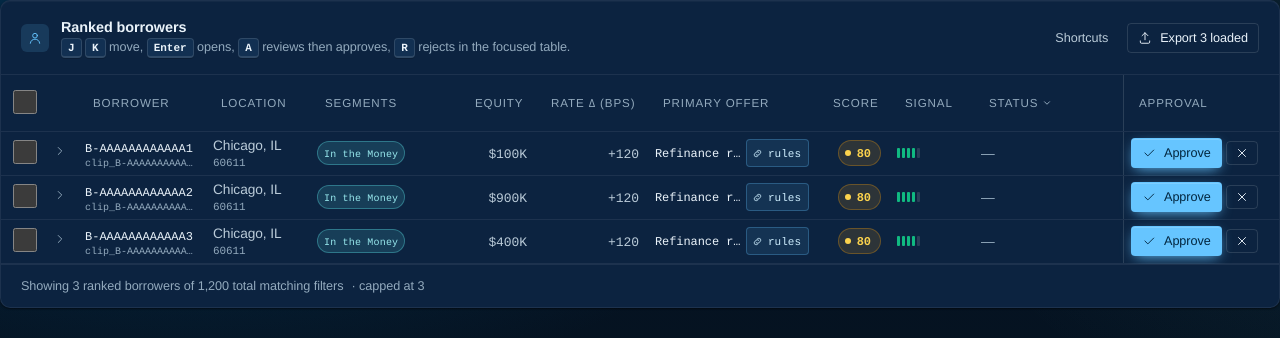
Test case: LeadTable sort-scope disclosure › says the sort covers only the loaded rows when the window is truncated
Click the button with aria-label "Sort by Equity": (499, 103) [475,91,524,115]
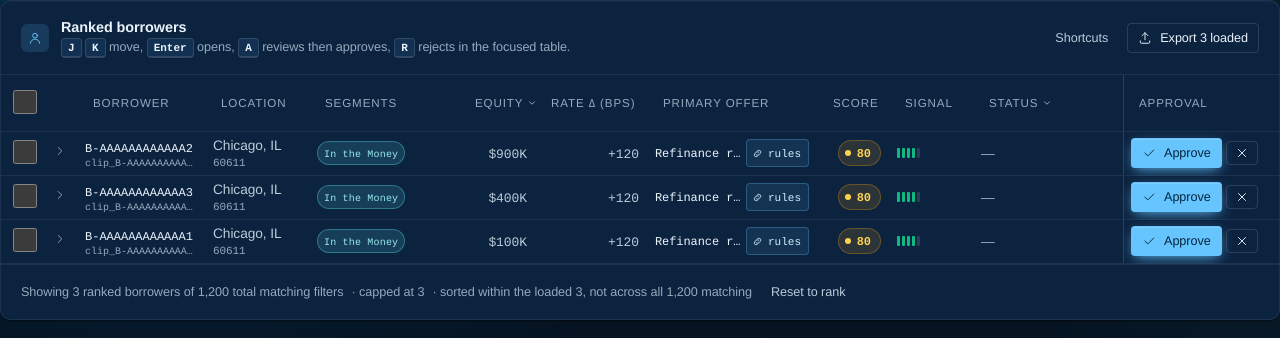
Check: the element with class "surface__ft" shows "sorted within the loaded 3, not across all 1,200 matching", box [1,264,1279,319]
Check: the button with test id "lead-sort-reset" reads "Reset to rank", box [760,277,856,307]
